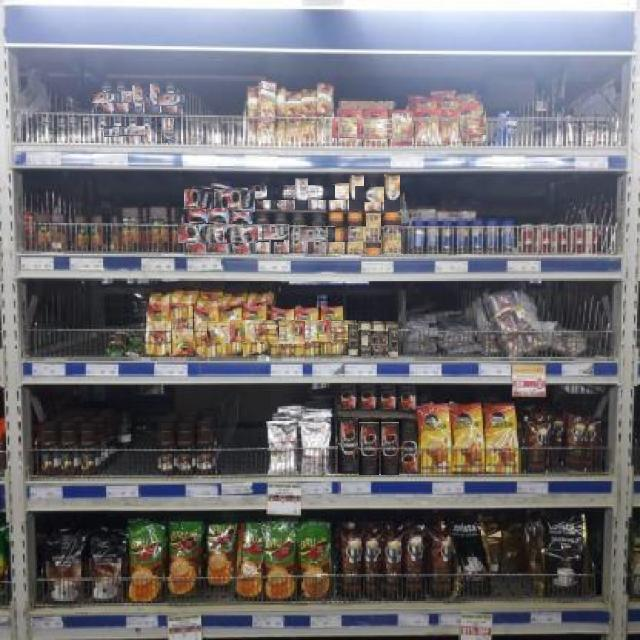Coffee: (193, 307, 219, 356), (146, 304, 170, 355), (337, 418, 358, 473), (358, 421, 379, 475), (170, 305, 193, 354), (230, 319, 279, 342), (308, 320, 356, 343), (284, 320, 331, 343), (207, 321, 255, 343), (380, 421, 399, 475), (400, 421, 419, 474), (260, 322, 305, 344), (199, 223, 236, 244), (241, 224, 284, 242), (332, 117, 367, 138), (358, 118, 393, 139), (418, 112, 439, 146), (391, 112, 412, 146), (384, 213, 401, 255), (177, 224, 214, 243), (290, 214, 307, 255), (335, 225, 376, 242), (314, 226, 357, 242), (365, 213, 381, 255), (455, 114, 486, 135), (441, 112, 460, 146), (355, 185, 392, 202), (383, 174, 400, 211), (262, 225, 303, 240), (298, 227, 339, 242), (224, 225, 258, 243), (319, 183, 354, 200), (348, 174, 364, 211), (204, 188, 233, 208), (184, 190, 214, 209), (230, 190, 255, 212), (248, 185, 280, 200), (302, 186, 335, 200), (294, 177, 308, 210), (268, 185, 298, 200), (106, 90, 137, 103), (157, 93, 185, 106), (387, 325, 398, 357), (359, 324, 370, 355), (362, 335, 393, 346), (347, 324, 358, 355), (161, 118, 174, 143), (92, 92, 121, 103), (149, 83, 160, 112), (132, 84, 143, 113), (97, 117, 108, 142), (142, 117, 153, 142), (105, 126, 130, 137), (120, 125, 145, 136)
